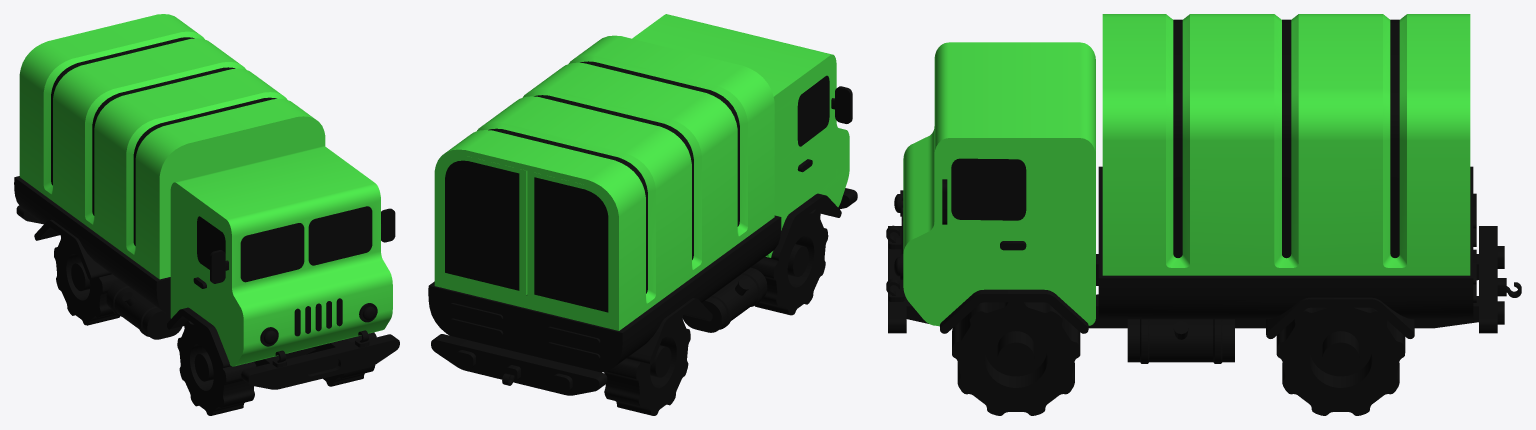
File: Military Bus.fbx
3 renders of one model, left to right at view 1: azimuth 30°, elevation 25°; view 2: azimuth 150°, elevation 25°; view 3: azimuth 270°, elevation 25°, orthographic. The views are drawn at different scales.
Visible parts, largest first — view 1: Military Bus; view 2: Military Bus; view 3: Military Bus.
Boxes of the visible parts, left/top/right/bottom form: Military Bus: left=14, top=14, right=399, bottom=415; Military Bus: left=428, top=14, right=857, bottom=415; Military Bus: left=886, top=14, right=1521, bottom=415.
Size of the model in its own units: 319 by 396 by 728.
